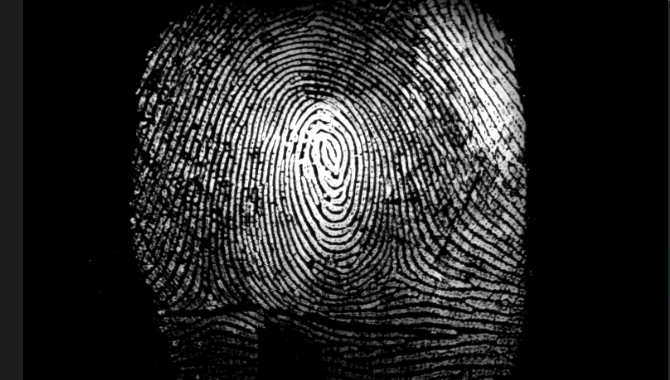deltas: (190, 267, 235, 320), (368, 252, 414, 296)
nucleo: (308, 130, 348, 173)
